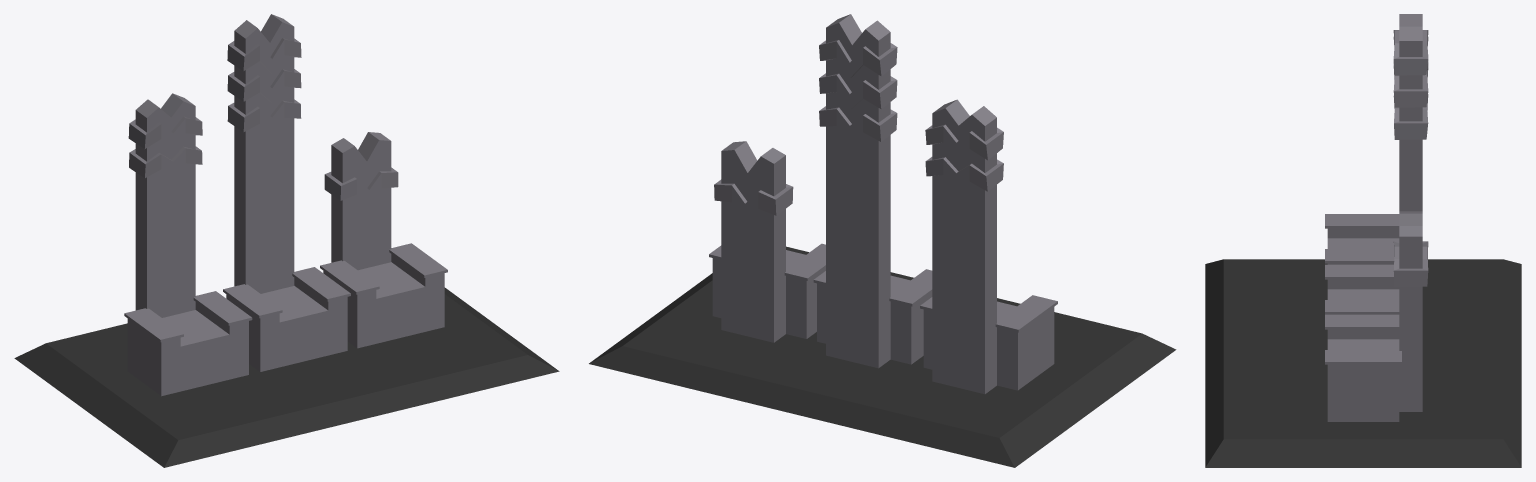
Rendered from Thrones.FBX.
3 views of the same model, side by side, from view 1: azimuth 30°, elevation 25°; view 2: azimuth 150°, elevation 25°; view 3: azimuth 270°, elevation 25° (orthographic). The views are drawn at different scales.
Parts seen in each view (by area): view 1: Box060; view 2: Box060; view 3: Box060.
Boxes of the visible parts, left/top/right/bottom form: Box060: left=14, top=14, right=559, bottom=467; Box060: left=589, top=14, right=1176, bottom=467; Box060: left=1205, top=14, right=1521, bottom=467.
Bounding box in the file's own units: 205 × 162 × 135.
